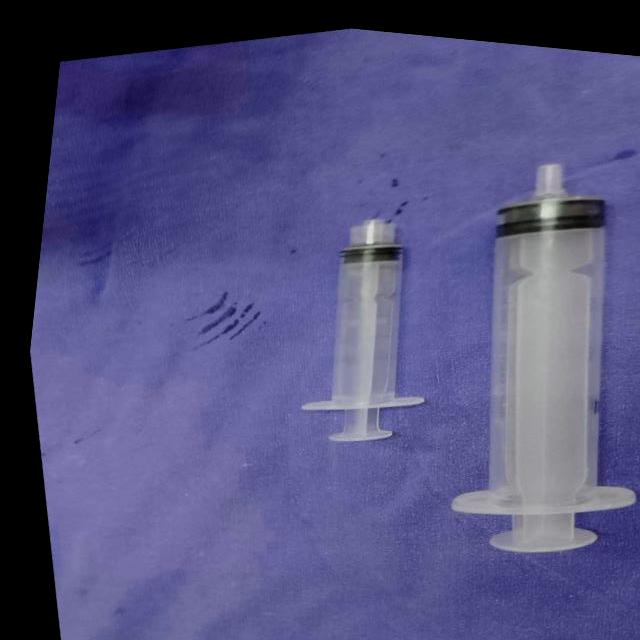Sharps: (449, 161, 635, 554), (299, 216, 426, 443)
